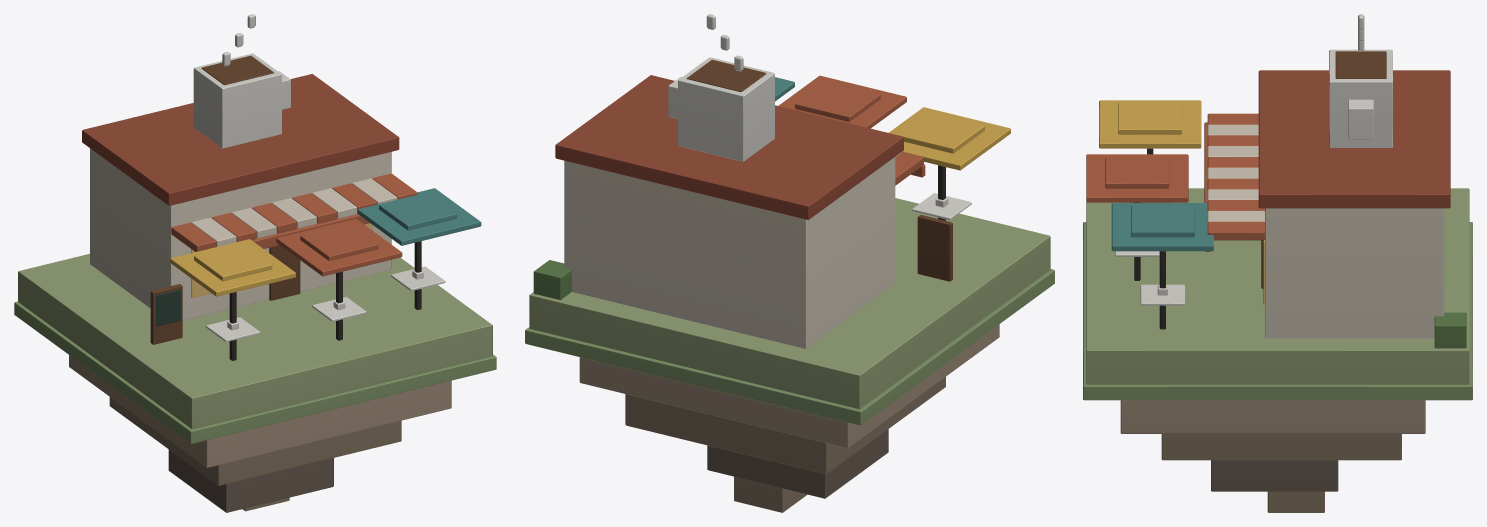
File: region_02.glb
3 views of the same model, side by side, from view 1: azimuth 30°, elevation 25°; view 2: azimuth 150°, elevation 25°; view 3: azimuth 270°, elevation 25° (orthographic). The views are drawn at different scales.
Visible parts, largest first — view 1: region_02_static; view 2: region_02_static; view 3: region_02_static.
Boxes of the visible parts, x1,y1,x2,y2 form: region_02_static: [14, 53, 496, 512]; region_02_static: [525, 57, 1054, 512]; region_02_static: [1083, 49, 1472, 512].
Size of the model in its own units: 6.1 by 8.64 by 6.1.
